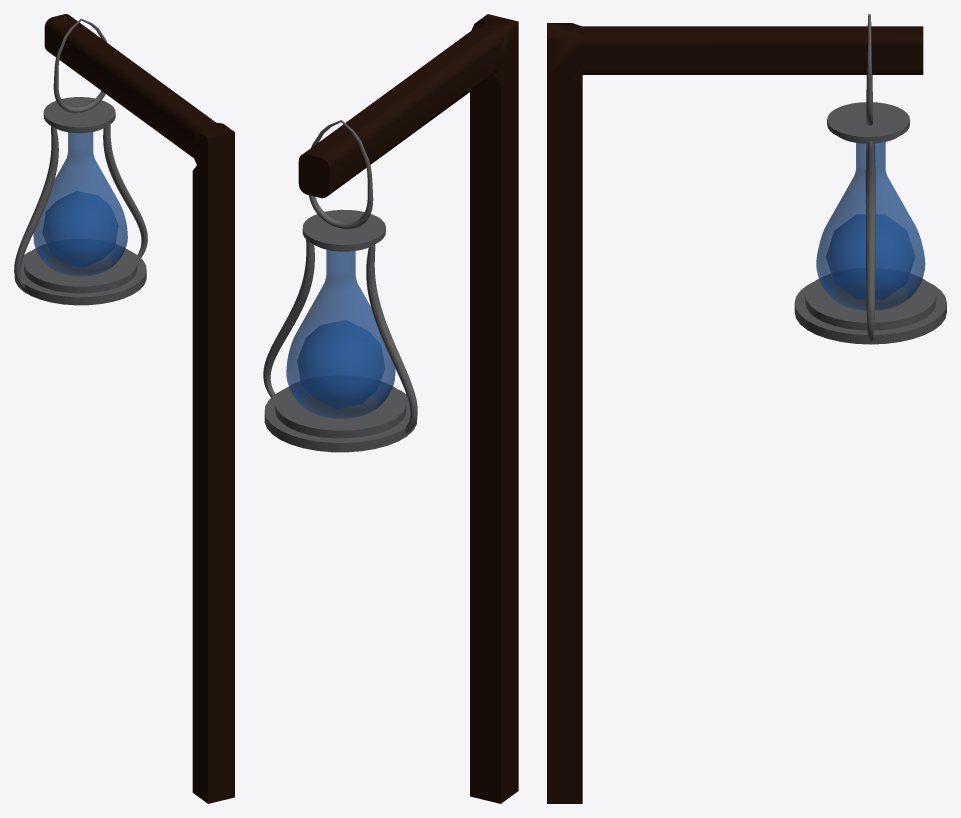
Rendered from lantern place holder.fbx.
3 views of the same model, side by side, from view 1: azimuth 30°, elevation 25°; view 2: azimuth 150°, elevation 25°; view 3: azimuth 270°, elevation 25° (orthographic). The views are drawn at different scales.
Visible parts, largest first — view 1: Cube, Icosphere; view 2: Cube, Icosphere; view 3: Cube, Icosphere.
Boxes of the visible parts, x1=… form: Cube: x1=44, y1=14, x2=234, y2=803; Icosphere: x1=14, y1=18, x2=147, y2=305; Cube: x1=298, y1=14, x2=518, y2=803; Icosphere: x1=263, y1=120, x2=417, y2=452; Cube: x1=547, y1=23, x2=923, y2=803; Icosphere: x1=794, y1=14, x2=946, y2=344.
Bounding box in the file's own units: 302 × 1479 × 685.
